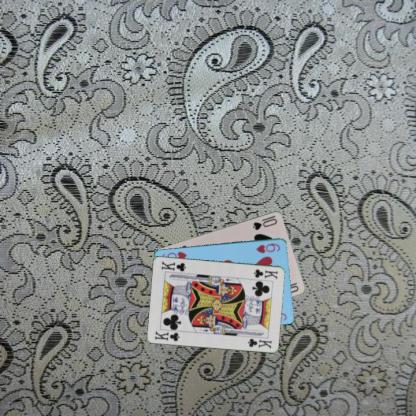10s: (250, 213, 279, 231)
6h: (254, 241, 281, 254)
Kc: (251, 266, 279, 281), (152, 328, 181, 342)
